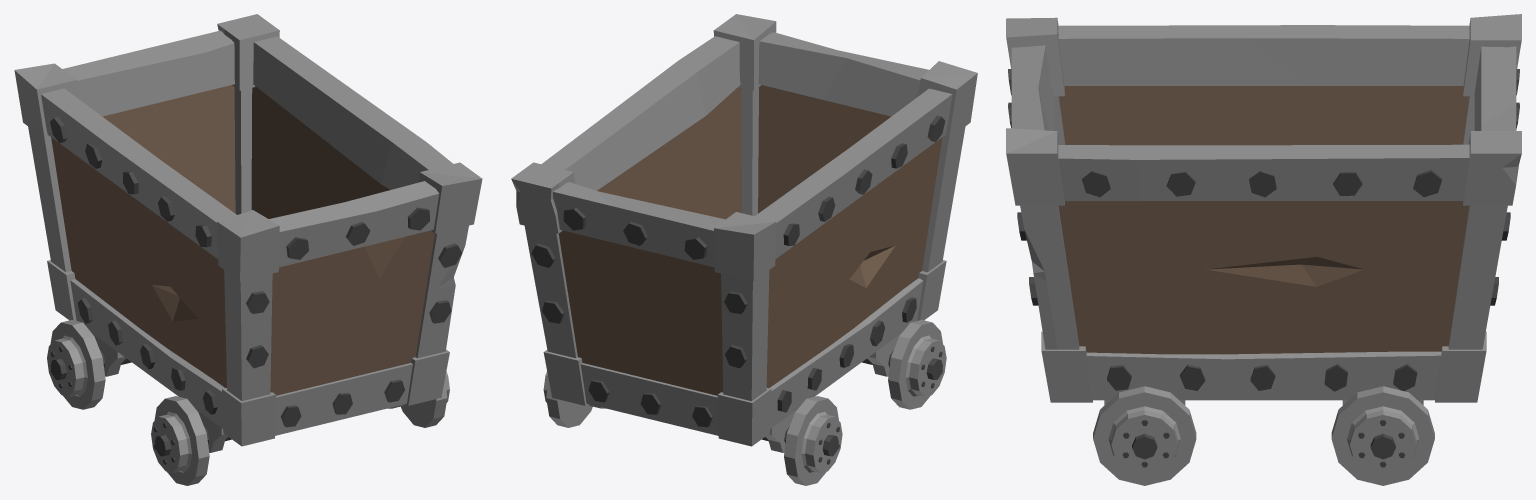
The model's file is Mine_cart_empty.fbx.
3 views of the same model, side by side, from view 1: azimuth 30°, elevation 25°; view 2: azimuth 150°, elevation 25°; view 3: azimuth 270°, elevation 25° (orthographic). The views are drawn at different scales.
Parts seen in each view (by area): view 1: Mine_cart_empty; view 2: Mine_cart_empty; view 3: Mine_cart_empty.
Part boxes in pixels (box(x1,y1,x2,y2)): Mine_cart_empty: box(14, 14, 482, 485); Mine_cart_empty: box(511, 14, 977, 485); Mine_cart_empty: box(1006, 14, 1521, 485).
Size of the model in its own units: 117 by 163 by 116.
